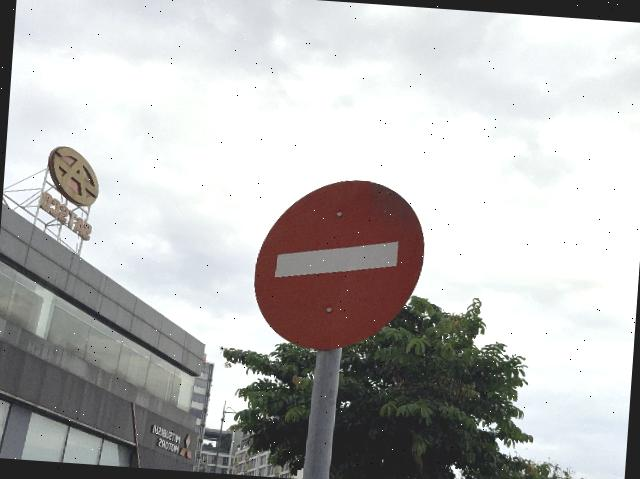cam-di-nguoc-chieu: (249, 172, 429, 358)
